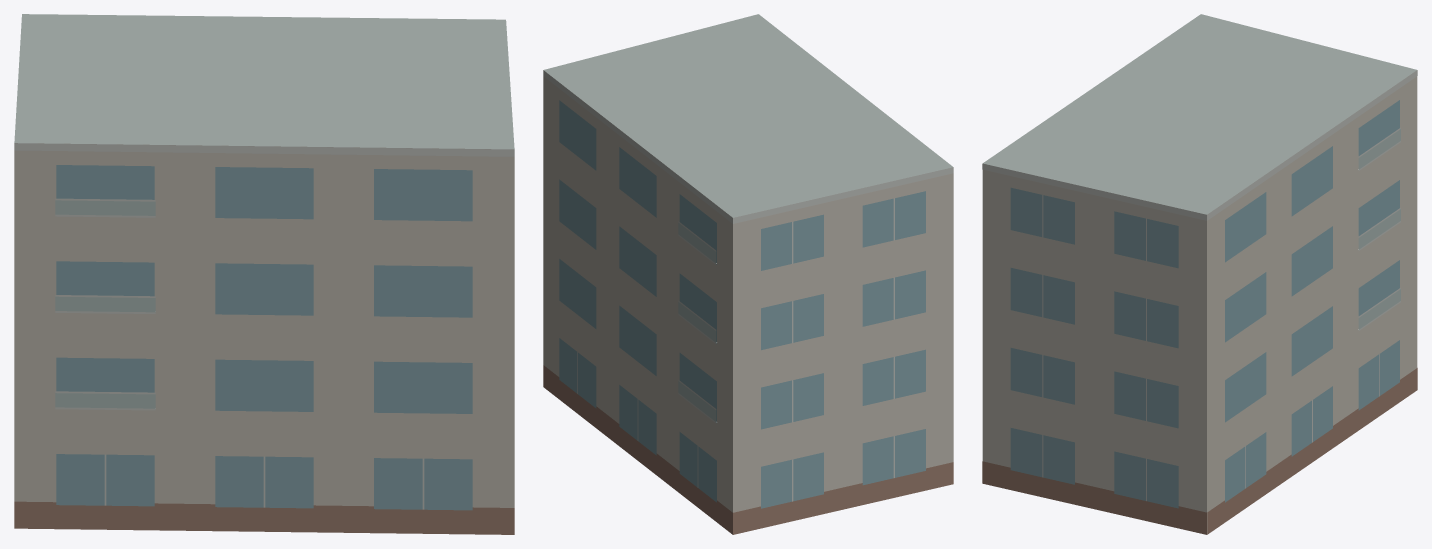
File: survey-upis-32639594.glb
3 views of the same model, side by side, from view 1: azimuth 30°, elevation 25°; view 2: azimuth 150°, elevation 25°; view 3: azimuth 270°, elevation 25° (orthographic). The views are drawn at different scales.
Parts seen in each view (by area): view 1: survey-upis-32639594.tmp; view 2: survey-upis-32639594.tmp; view 3: survey-upis-32639594.tmp.
Part boxes in pixels (box(x1,y1,x2,y2)): survey-upis-32639594.tmp: box(14, 14, 514, 534); survey-upis-32639594.tmp: box(543, 14, 953, 534); survey-upis-32639594.tmp: box(982, 14, 1417, 534).
Bounding box in the file's own units: 17.09 × 12.7 × 15.65.
